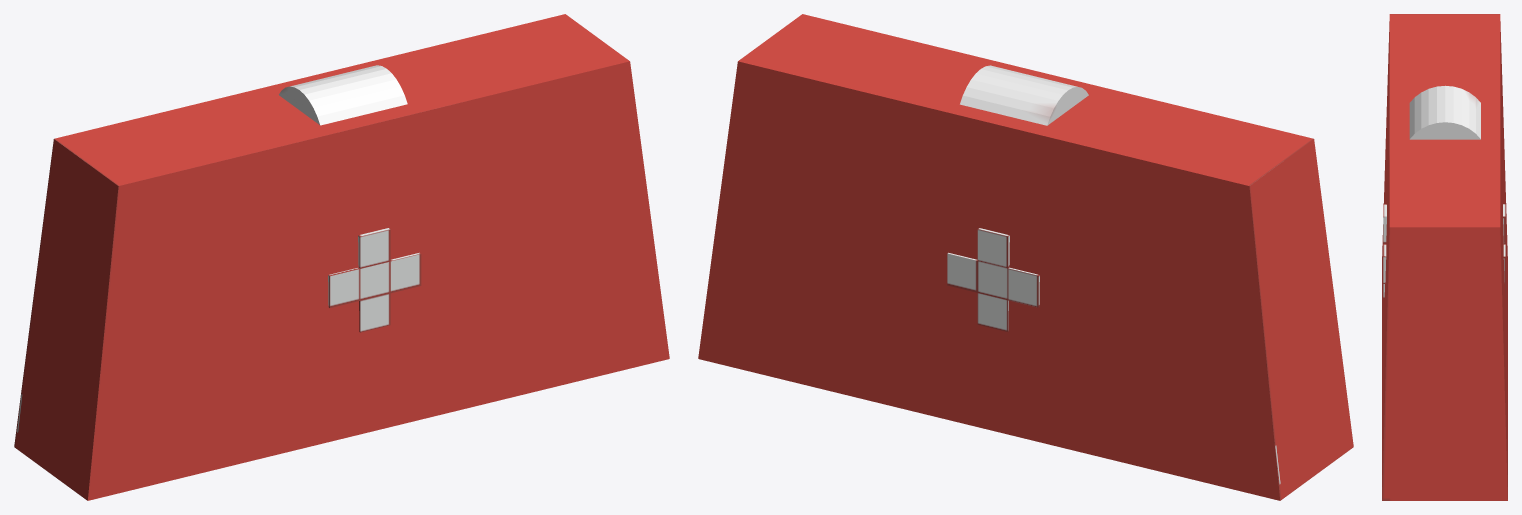
File: medic.obj
The picture shows the model from 3 angles, left to right: view 1: azimuth 30°, elevation 25°; view 2: azimuth 150°, elevation 25°; view 3: azimuth 270°, elevation 25°; orthographic projection. The views are drawn at different scales.
Parts seen in each view (by area): view 1: Cube.010_Cube.020; view 2: Cube.010_Cube.020; view 3: Cube.010_Cube.020.
Part boxes in pixels (<box>): Cube.010_Cube.020: <box>14,14,669,500</box>; Cube.010_Cube.020: <box>698,14,1353,500</box>; Cube.010_Cube.020: <box>1382,14,1507,500</box>.
Size of the model in its own units: 0.4966 by 0.2634 by 0.1087.
